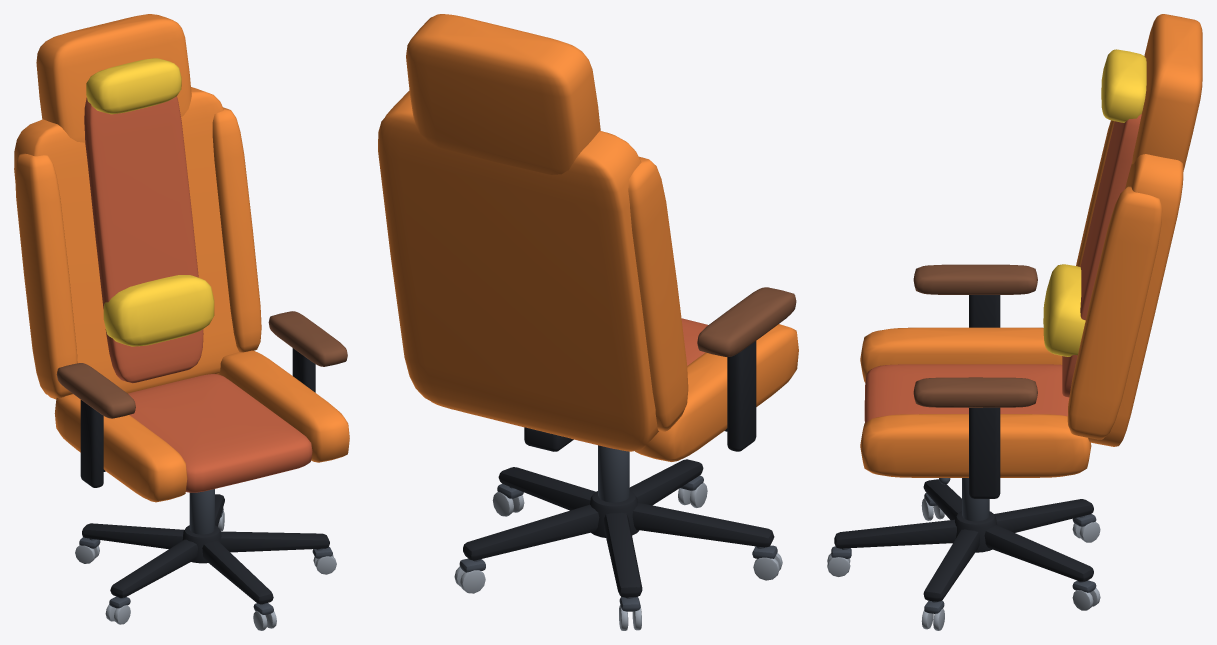
Rendered from cadeira_gamer_laranja.glb.
The picture shows the model from 3 angles, left to right: view 1: azimuth 30°, elevation 25°; view 2: azimuth 150°, elevation 25°; view 3: azimuth 270°, elevation 25°; orthographic projection. The views are drawn at different scales.
Visible parts, largest first — view 1: cadeira_gamer_laranja; view 2: cadeira_gamer_laranja; view 3: cadeira_gamer_laranja.
Boxes of the visible parts, x1,y1,x2,y2 form: cadeira_gamer_laranja: [14, 14, 349, 630]; cadeira_gamer_laranja: [378, 14, 798, 630]; cadeira_gamer_laranja: [827, 14, 1202, 630].
Bounding box in the file's own units: 0.685 × 1.33 × 0.8444.
Materials: 1 (1 with a texture image).
